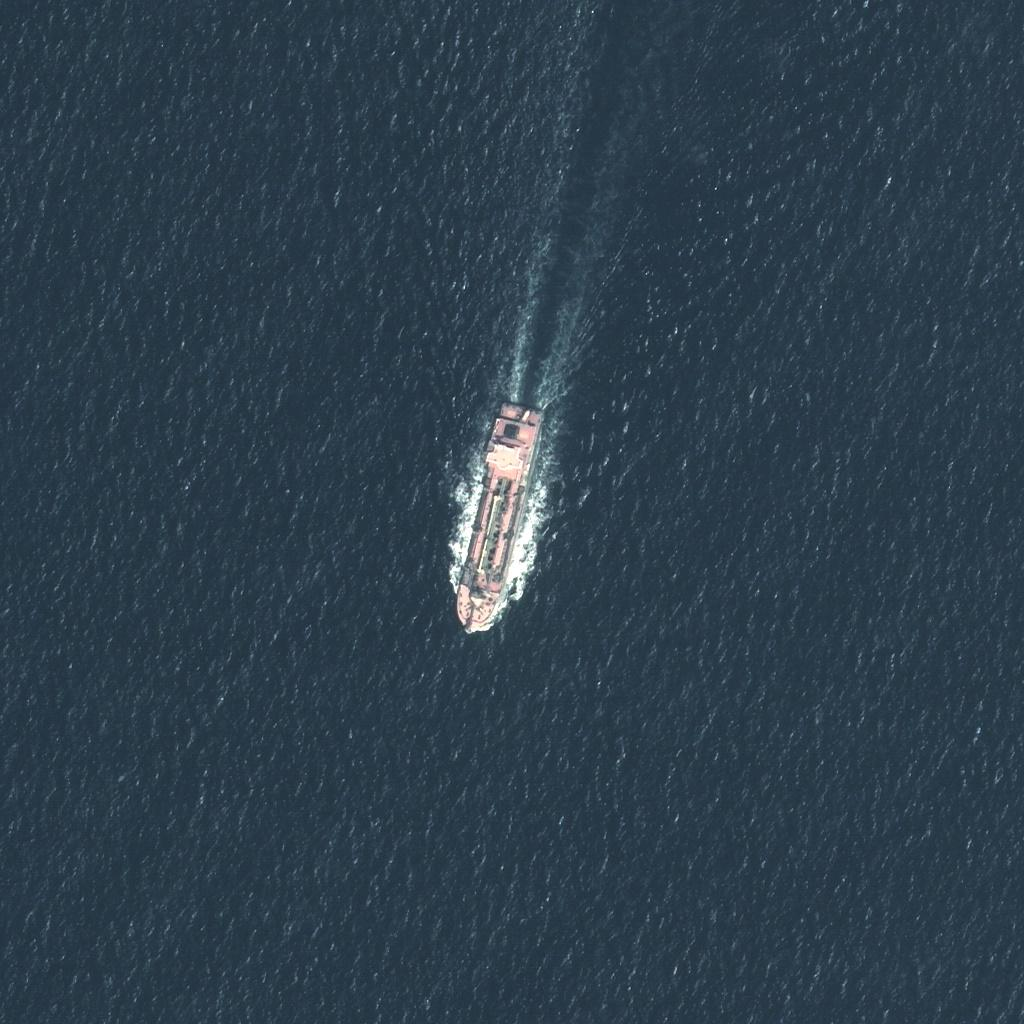ship: (447, 501, 548, 533)
